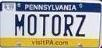placa de veiculo: (2, 1, 99, 47)
